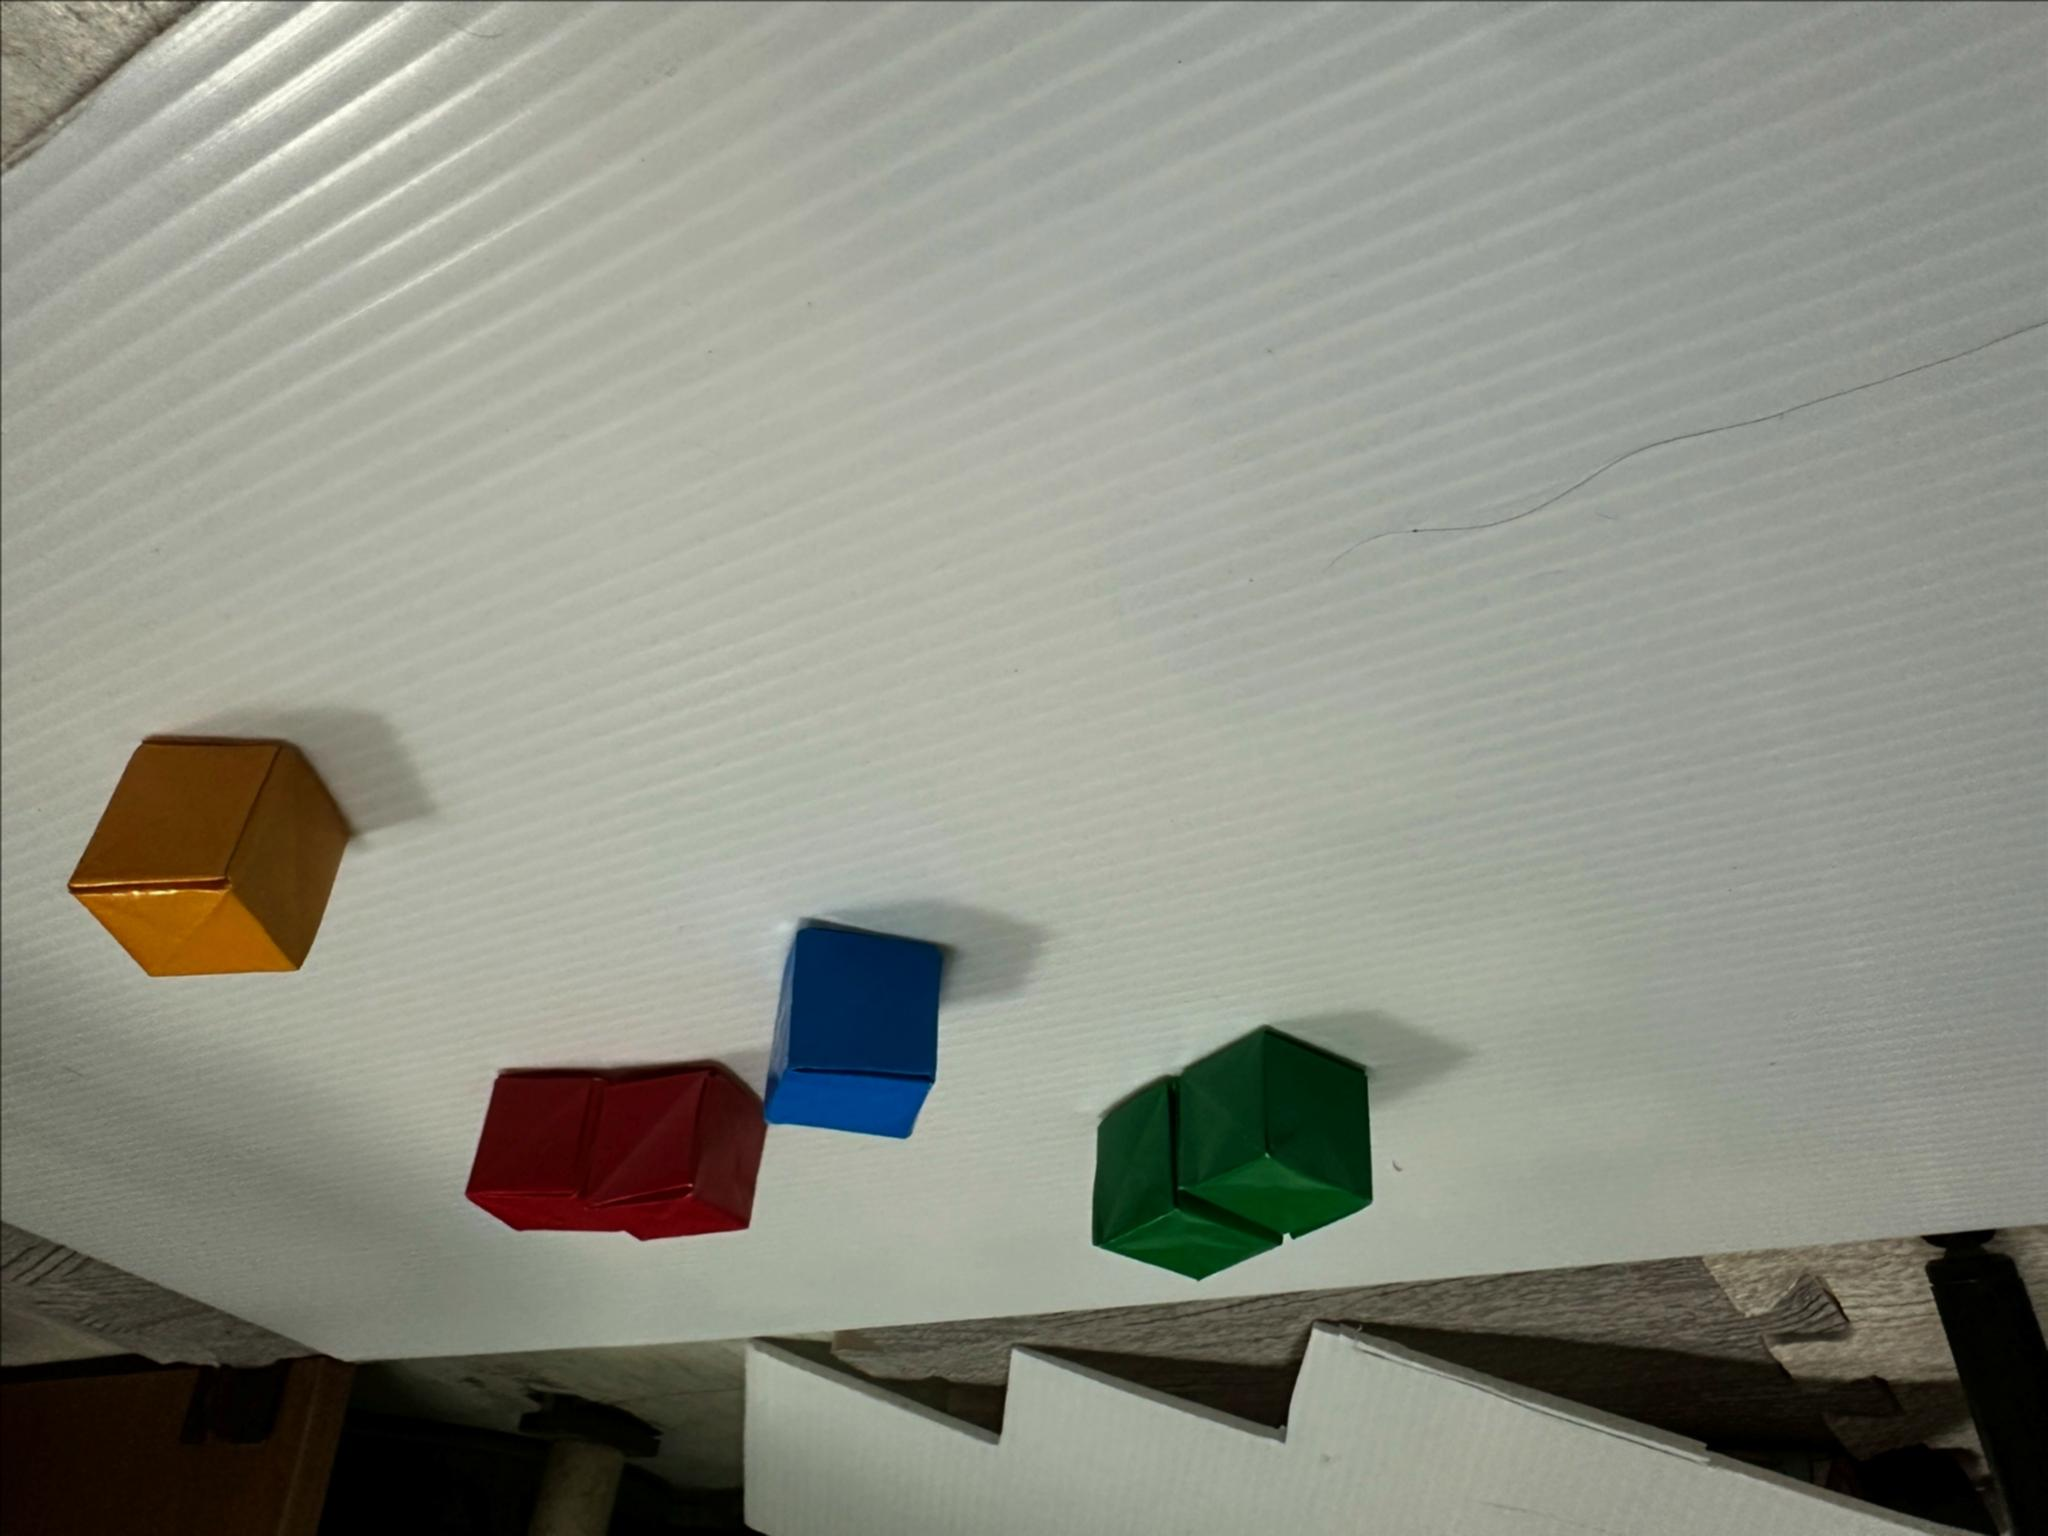base: (68, 741, 348, 975), (1177, 1029, 1371, 1231), (763, 923, 943, 1137), (1092, 1081, 1280, 1279), (581, 1066, 764, 1239), (464, 1071, 618, 1229)
